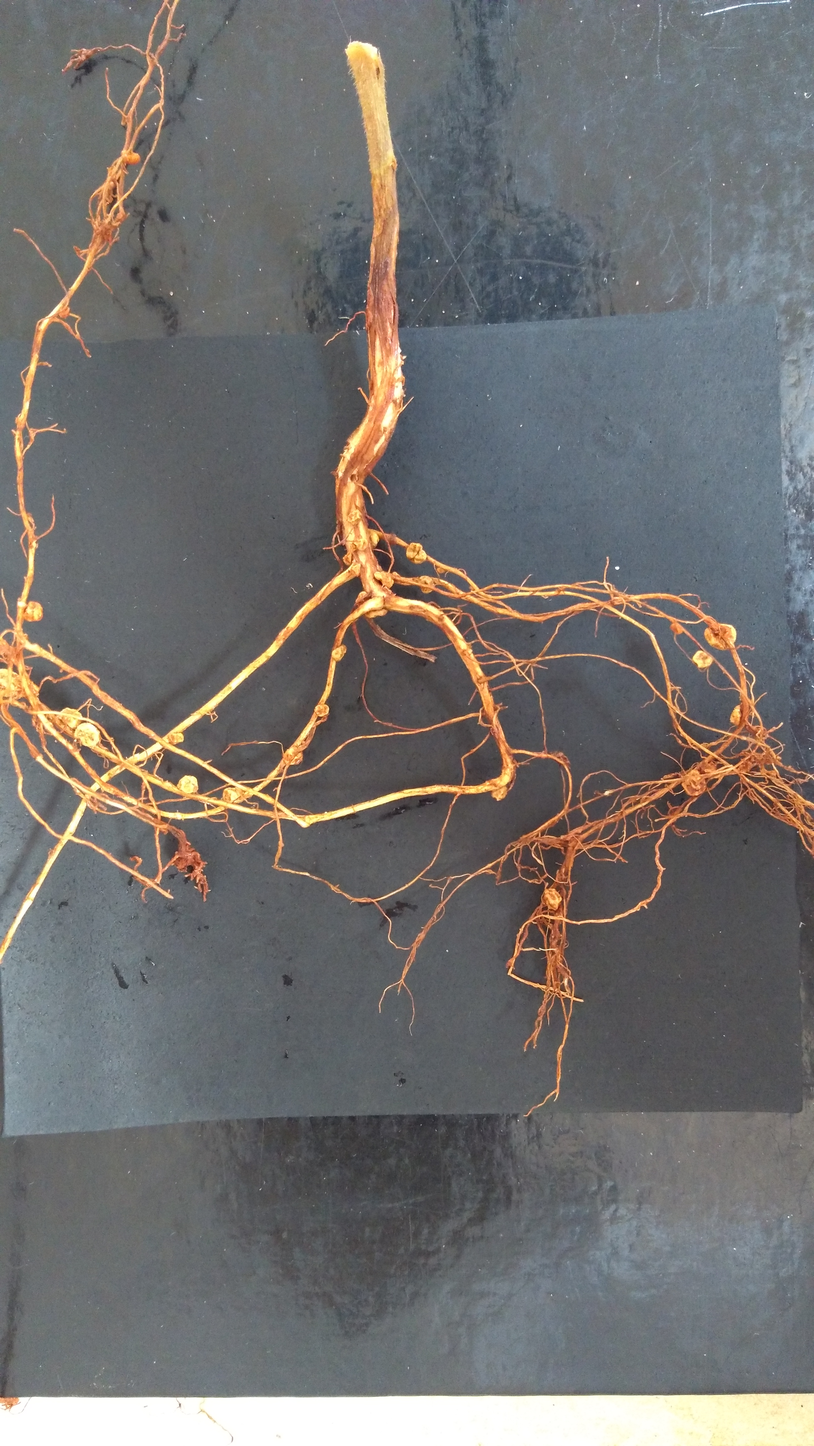nodule: (702, 621, 739, 652), (0, 665, 23, 705), (73, 721, 102, 751), (680, 768, 708, 798), (55, 705, 84, 731), (403, 540, 430, 566), (174, 772, 203, 795), (22, 599, 45, 626), (282, 745, 306, 768), (221, 784, 245, 807), (542, 885, 562, 912), (691, 649, 714, 670), (372, 569, 394, 589), (418, 574, 437, 595), (727, 702, 742, 726), (331, 642, 348, 663), (490, 784, 509, 802), (313, 703, 333, 720), (698, 759, 719, 775), (364, 608, 390, 620), (345, 509, 363, 526), (121, 149, 140, 165), (166, 731, 186, 746), (353, 536, 370, 553), (668, 622, 686, 637), (368, 529, 380, 549), (353, 590, 368, 602), (341, 551, 352, 566), (59, 306, 71, 318), (436, 565, 449, 575)
